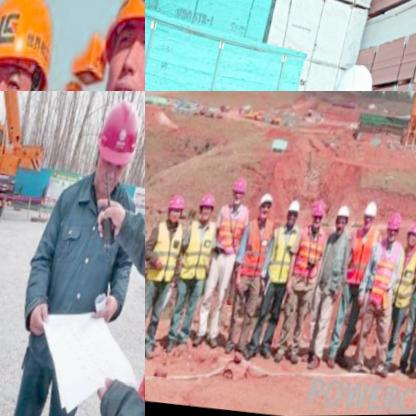helmet: (0, 0, 84, 91), (84, 91, 145, 199), (74, 0, 145, 91), (319, 54, 388, 91), (359, 197, 385, 240), (166, 191, 193, 228), (195, 189, 221, 227), (257, 188, 283, 226), (307, 196, 333, 234), (333, 202, 359, 239), (230, 174, 255, 210), (386, 211, 409, 248), (287, 197, 307, 230), (406, 218, 416, 255)
